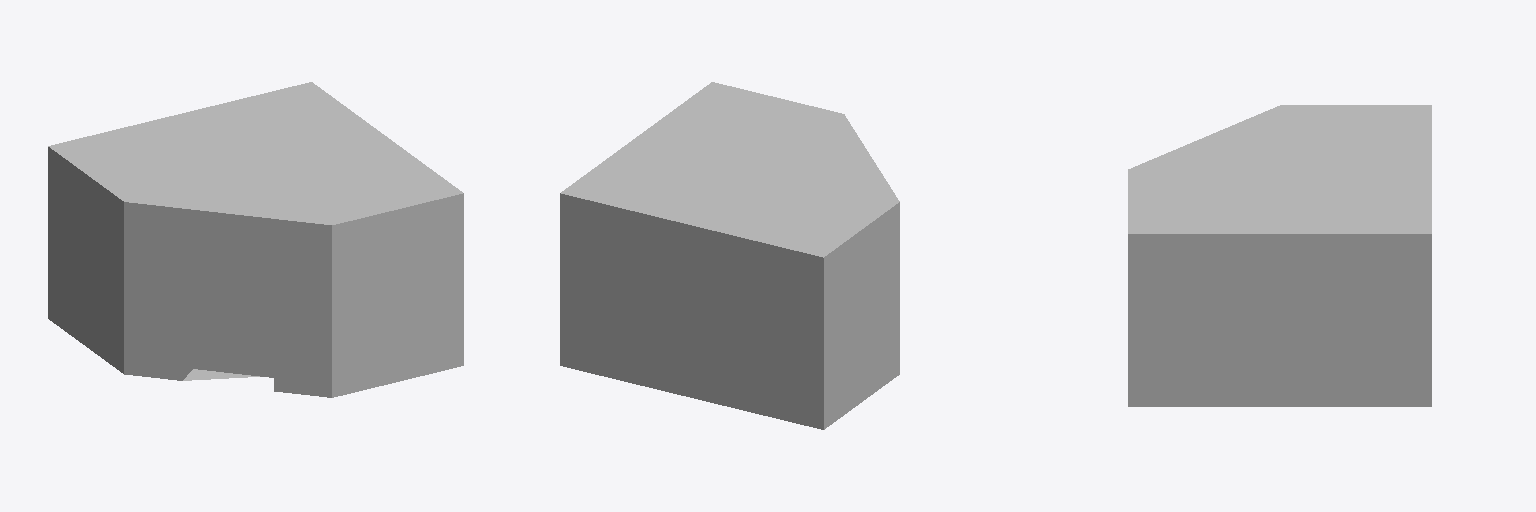
File: modularBuildings_057.obj
3 views of the same model, side by side, from view 1: azimuth 30°, elevation 25°; view 2: azimuth 150°, elevation 25°; view 3: azimuth 270°, elevation 25° (orthographic).
Parts seen in each view (by area): view 1: Mesh1 Group1 Model; view 2: Mesh1 Group1 Model; view 3: Mesh1 Group1 Model.
Part boxes in pixels (bbox=[...]): Mesh1 Group1 Model: bbox=[48, 82, 463, 397]; Mesh1 Group1 Model: bbox=[560, 82, 899, 429]; Mesh1 Group1 Model: bbox=[1128, 105, 1431, 406].
Bounding box in the file's own units: 1 × 0.625 × 1.